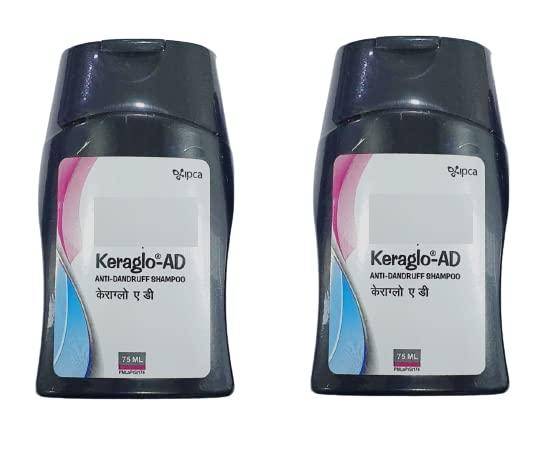KeraGlo: (306, 45, 513, 395), (31, 47, 238, 395)
